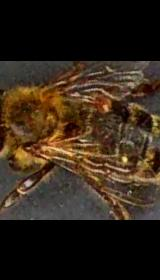varroa_mite: (87, 90, 119, 118)
